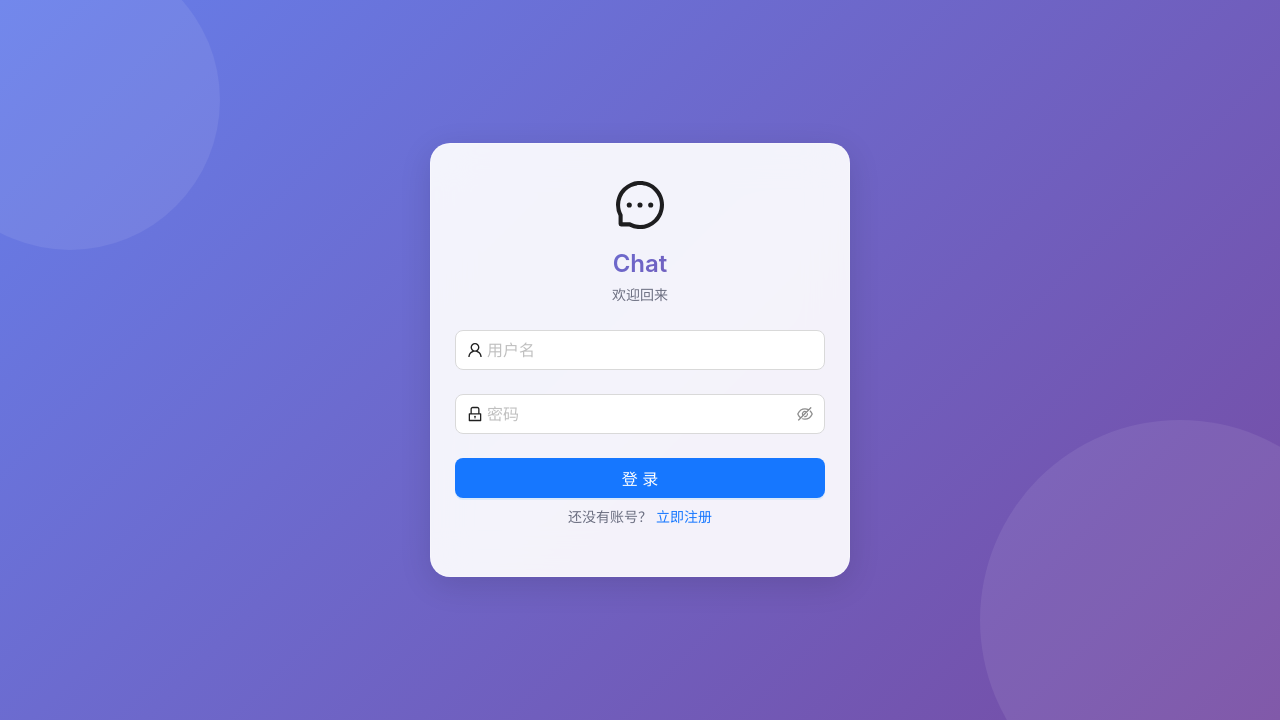
it: Login - Validation & Error (v0.2.0) › 2.2.3: shows error message when credentials are wrong
Type "testuser" into the field with placeholder "用户名" at point(650, 350), box [487,338,813,362]
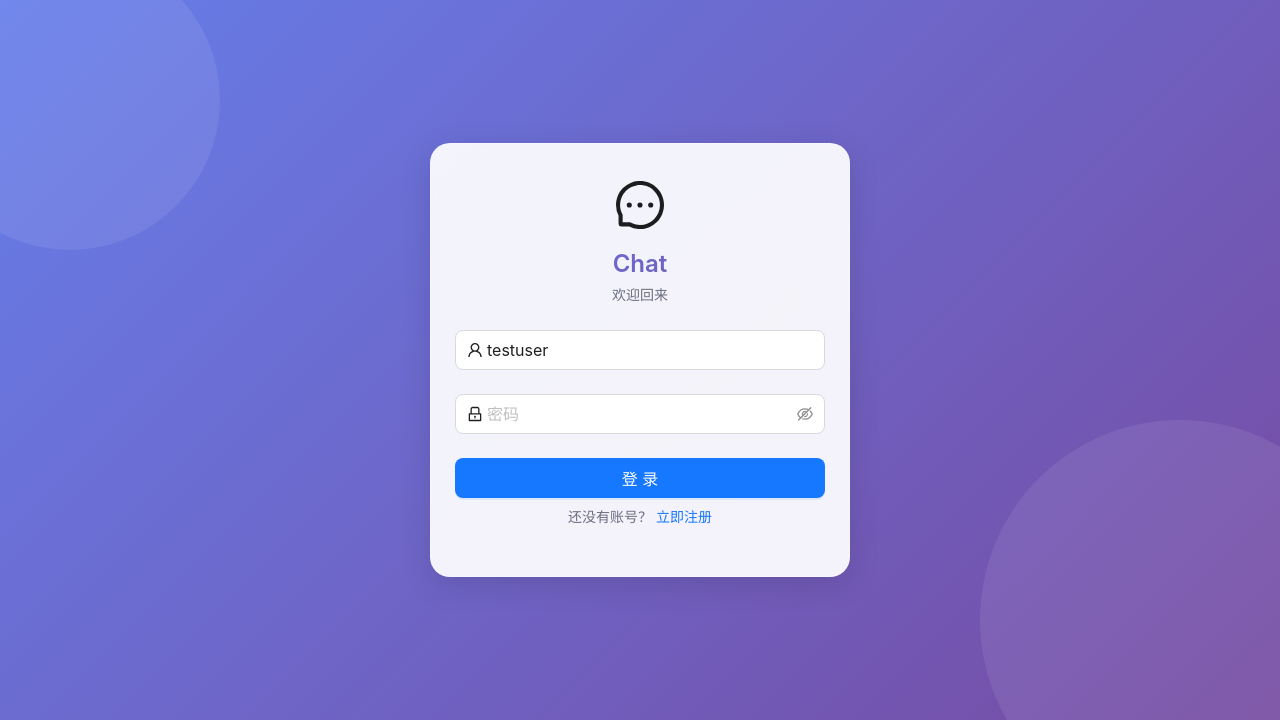
Type "wrongpass" into the password field with placeholder "密码" at point(640, 414), box [487,402,793,426]
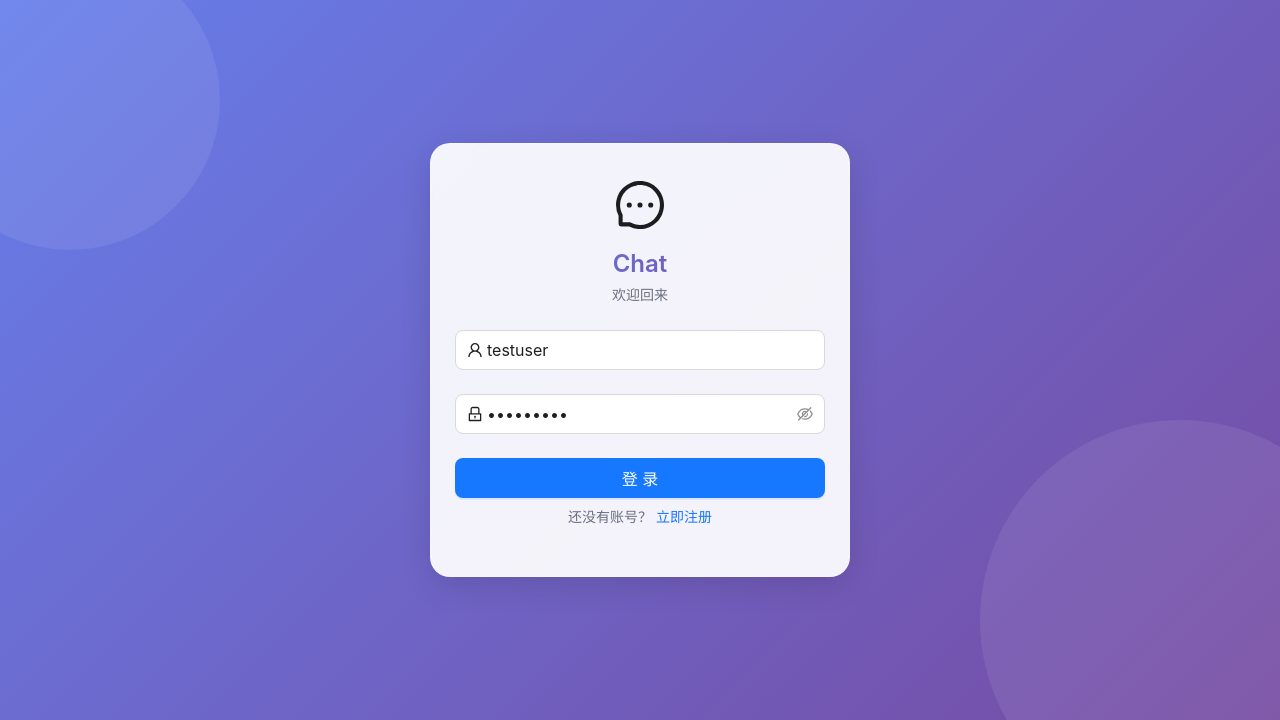
Click the button "登 录" at point(640, 478), box [455,458,825,498]
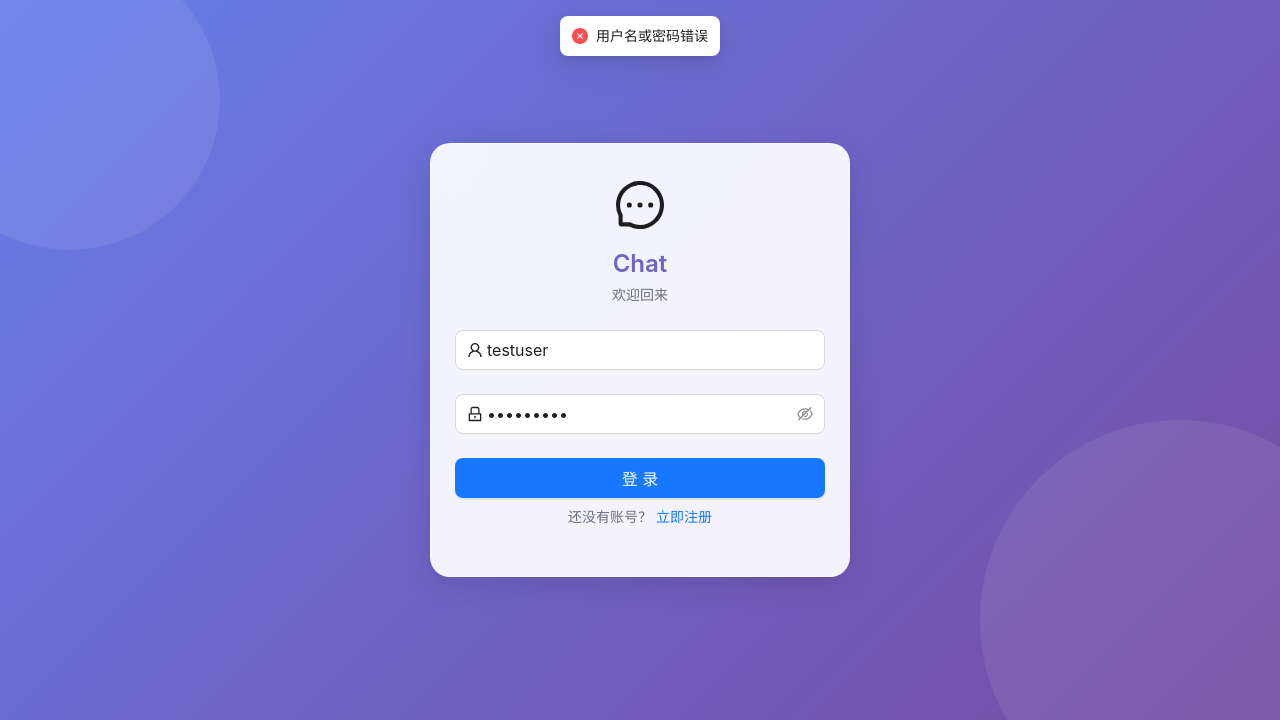
Expected: the element showing "用户名或密码错误" is shown, [572,25,708,47]
